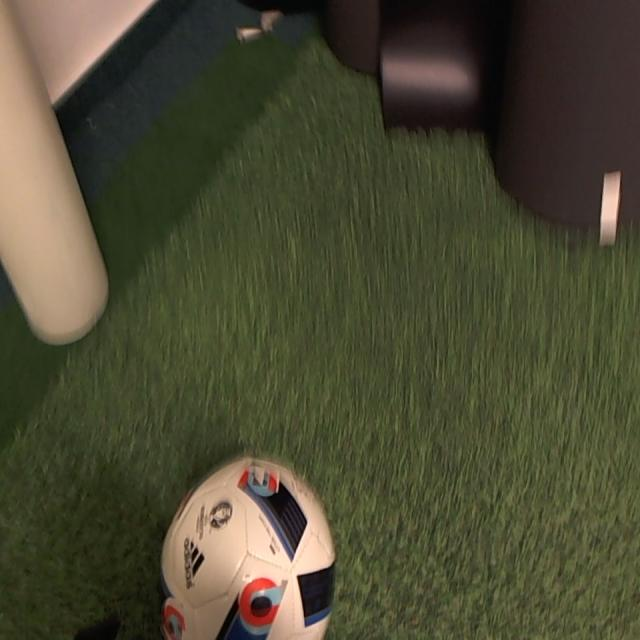ball: (158, 458, 339, 640)
goalpost: (1, 11, 112, 348)
